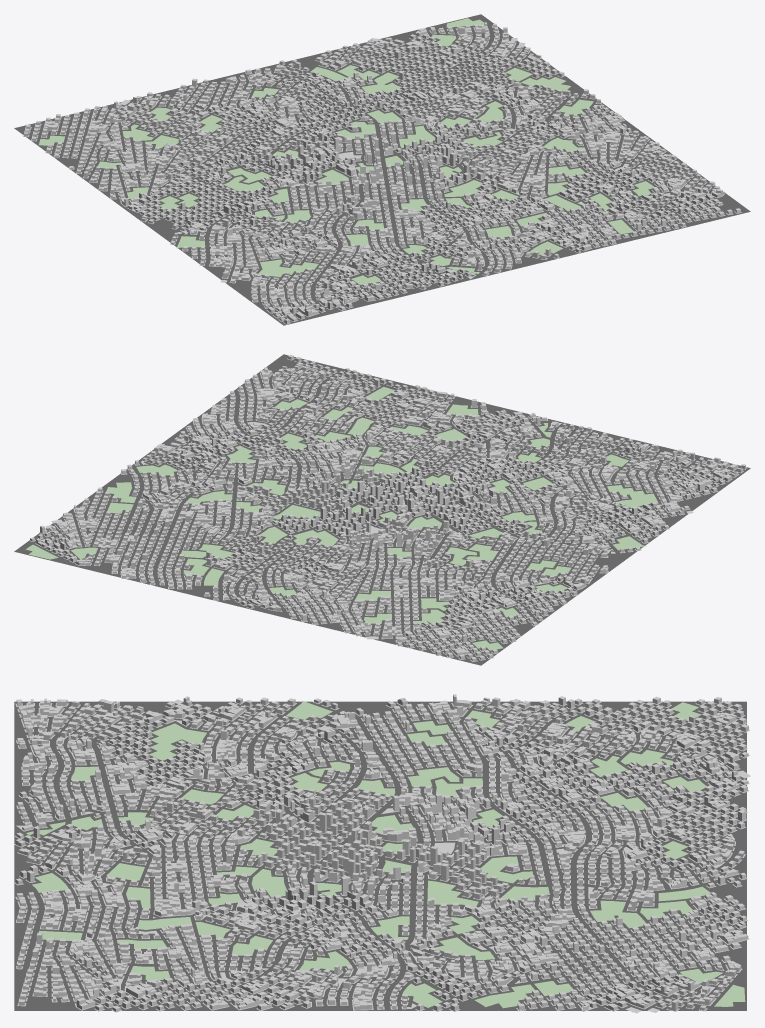
File: CitySample.fbx
3 renders of one model, top to bottom at view 1: azimuth 30°, elevation 25°; view 2: azimuth 150°, elevation 25°; view 3: azimuth 270°, elevation 25°, orthographic. The views are drawn at different scales.
Visible parts, largest first — view 1: CitySample; view 2: CitySample; view 3: CitySample.
Boxes of the visible parts, box(x1,y1,x2,y2) form: CitySample: box(14, 14, 750, 325); CitySample: box(14, 354, 750, 665); CitySample: box(14, 694, 750, 1013).
Size of the model in its own units: 60860 by 1657 by 60357.
